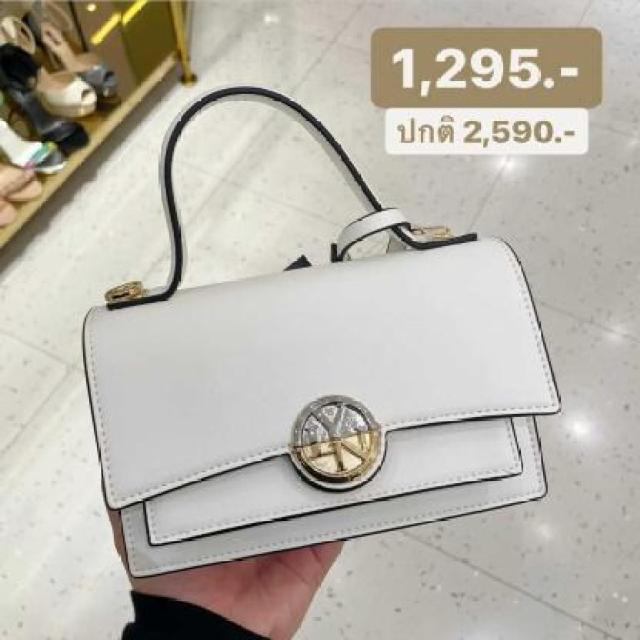Bag: (53, 66, 633, 605)
